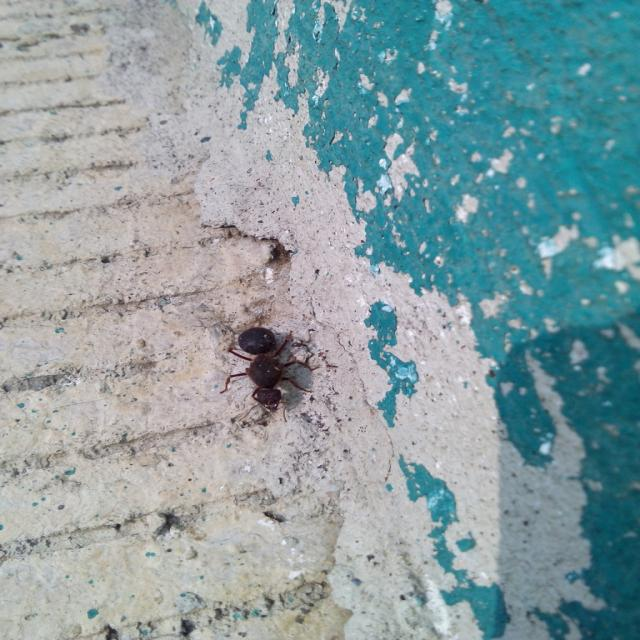Alive-Female-Dealate: (220, 326, 339, 423)
